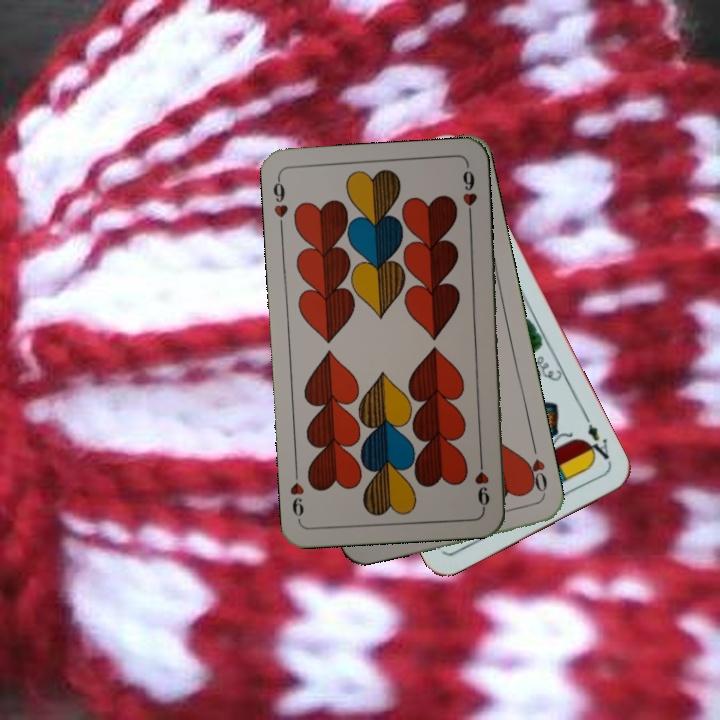EA: (578, 412, 612, 464)
H9: (471, 452, 493, 511), (269, 173, 291, 220)
HO: (520, 441, 550, 500)
